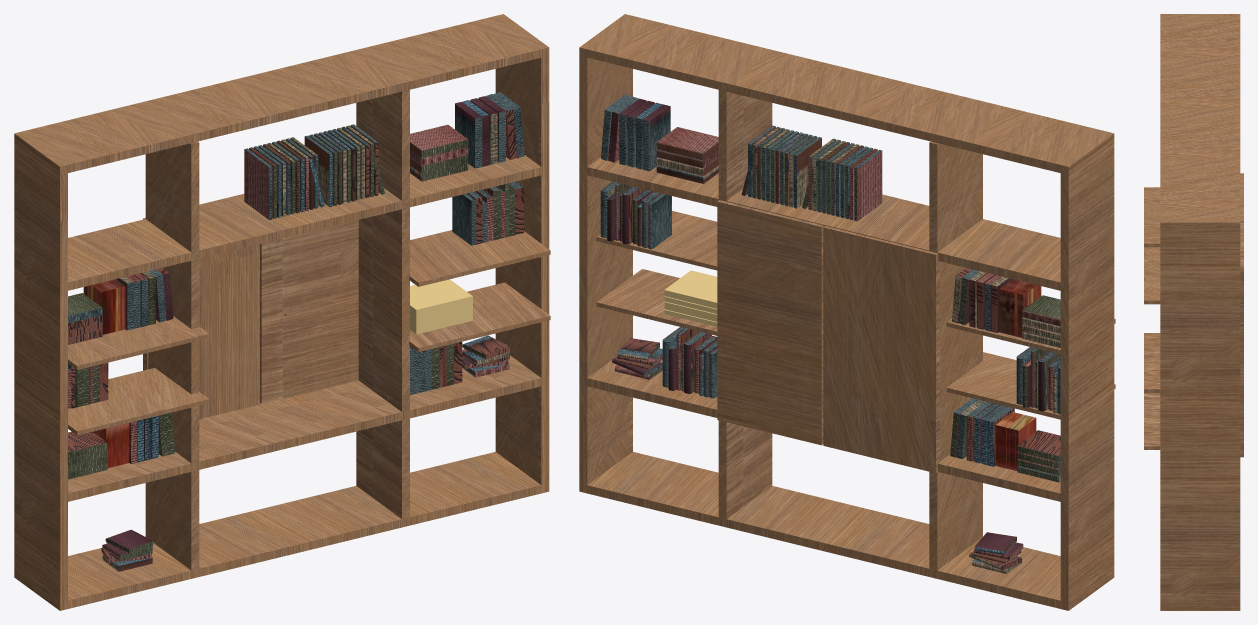
The model's file is librero3.fbx.
3 views of the same model, side by side, from view 1: azimuth 30°, elevation 25°; view 2: azimuth 150°, elevation 25°; view 3: azimuth 270°, elevation 25° (orthographic). The views are drawn at different scales.
Parts seen in each view (by area): view 1: books_obj_70; view 2: books_obj_70; view 3: books_obj_70.
Boxes of the visible parts, <box> form: books_obj_70: <box>14,14,550,610</box>; books_obj_70: <box>579,14,1115,610</box>; books_obj_70: <box>1144,14,1243,610</box>.
Size of the model in its own units: 9728 by 8438 by 1965.
8 materials, 7 textured.
